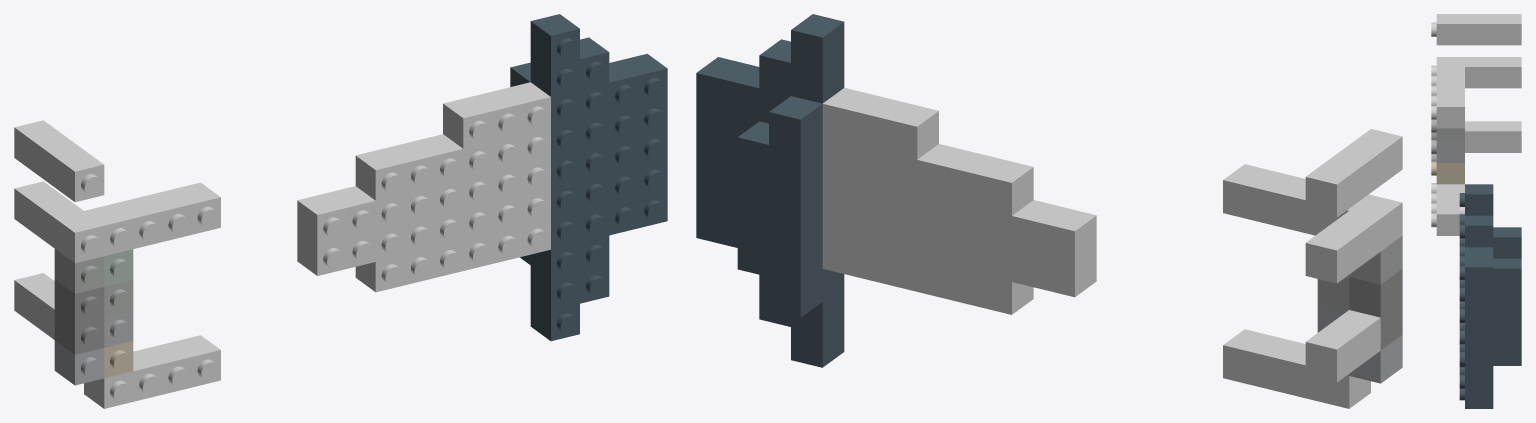
File: full.glb
3 renders of one model, left to right at view 1: azimuth 30°, elevation 25°; view 2: azimuth 150°, elevation 25°; view 3: azimuth 270°, elevation 25°, orthographic. The views are drawn at different scales.
Parts seen in each view (by area): view 1: world; view 2: world; view 3: world.
Part boxes in pixels (bbox=[...]): world: bbox=[14, 14, 667, 408]; world: bbox=[696, 14, 1402, 408]; world: bbox=[1431, 14, 1521, 408].
Bounding box in the file's own units: 168 × 80 × 30.6.
